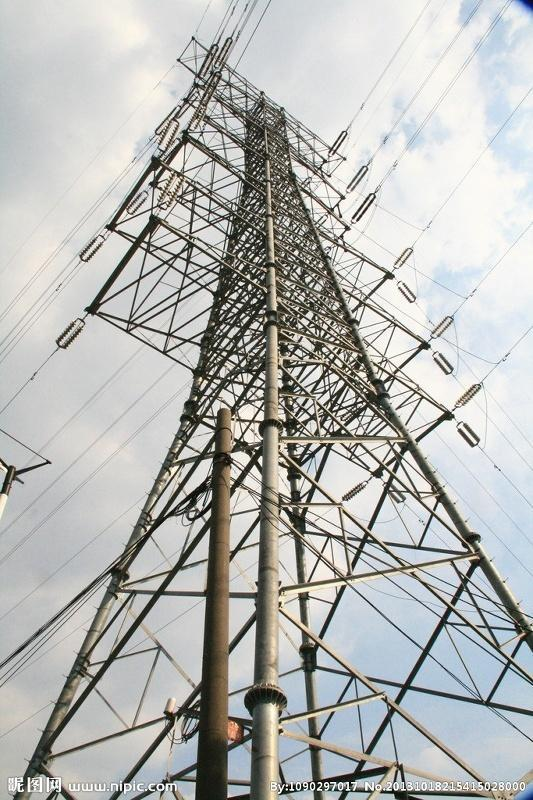power_tower: (10, 28, 533, 800)
